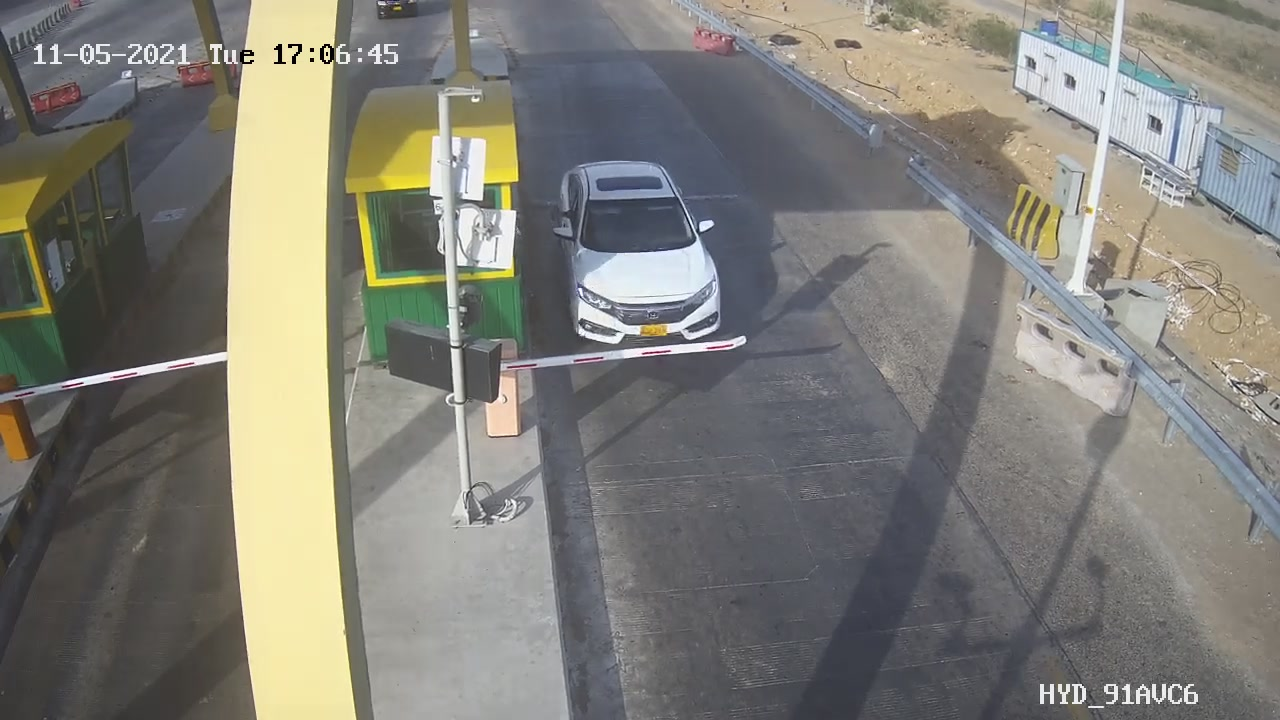F1: (537, 148, 748, 372)
